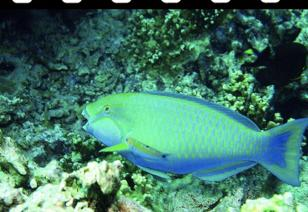Scaridae -Parrotfishes-: (78, 79, 308, 189)
